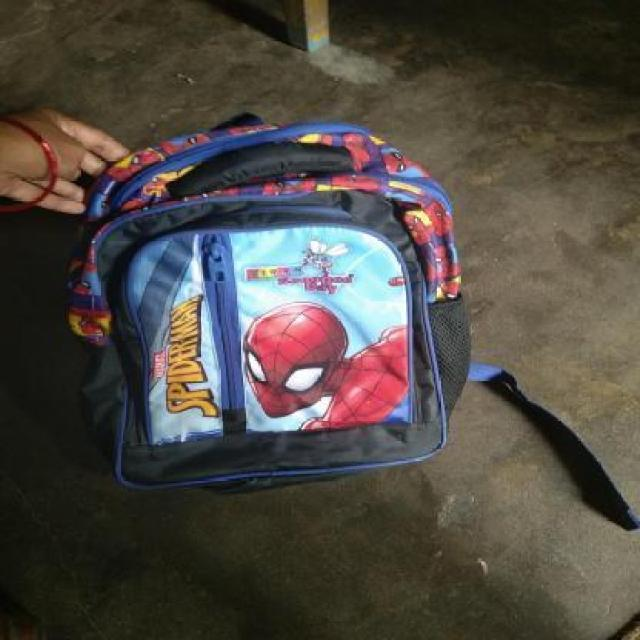backpack: (56, 105, 482, 500)
